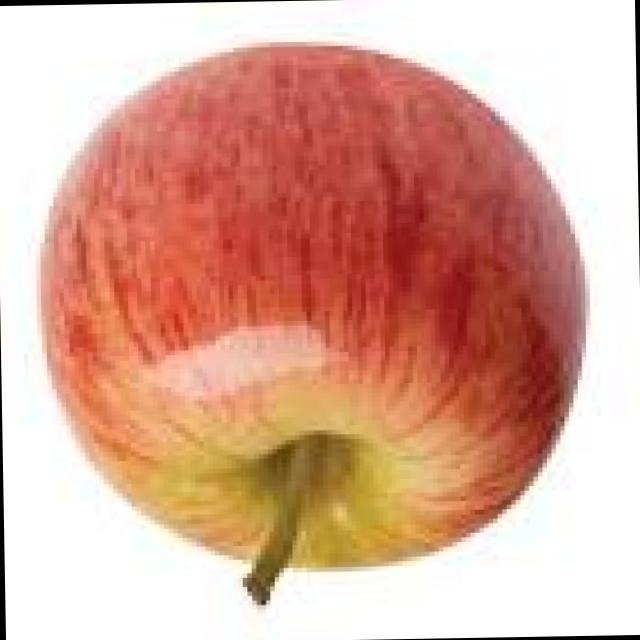Apple: (18, 32, 613, 622)
